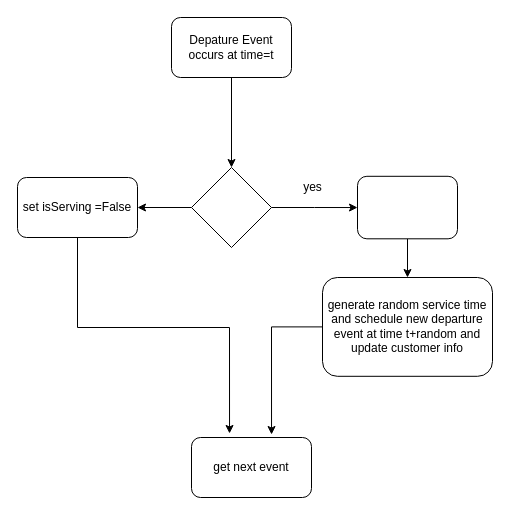
Image size: 510x515. Some labels were removed from this diagram. Here are the shapes that lost their labels. From the top down, the box of each, then its label:
(190, 166, 272, 248): is queue>0
(356, 175, 458, 239): Reduce queue by one
